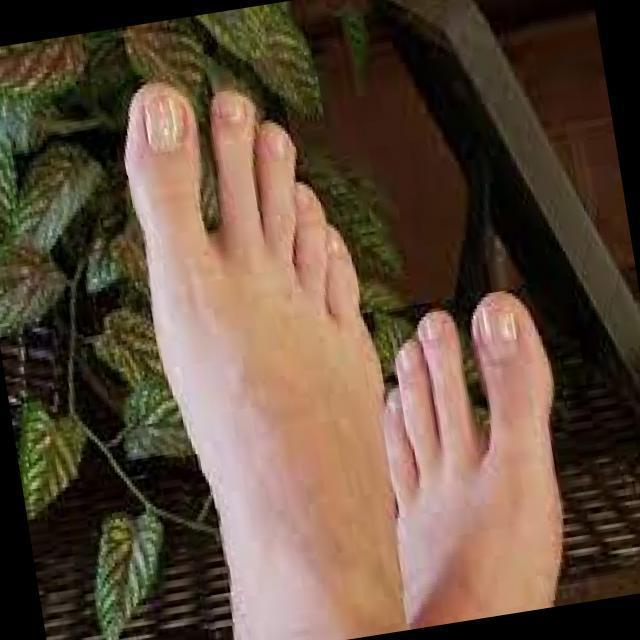No_Shoes: (113, 77, 384, 640), (381, 278, 567, 635)
